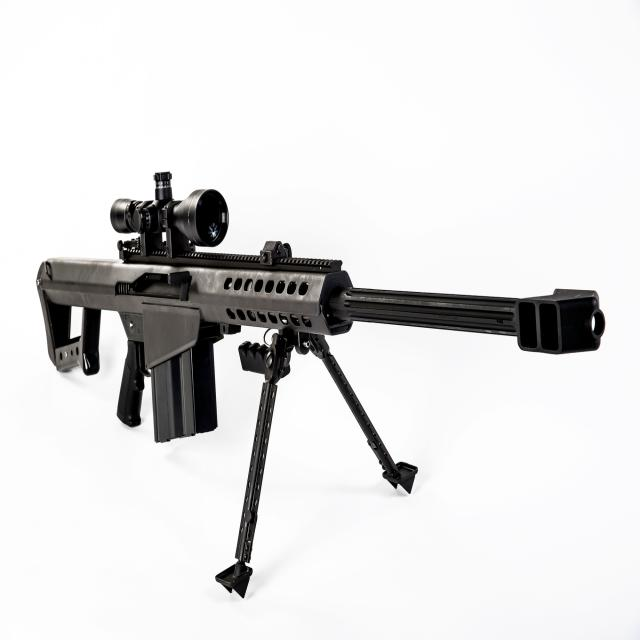Rifle: (36, 172, 607, 446)
